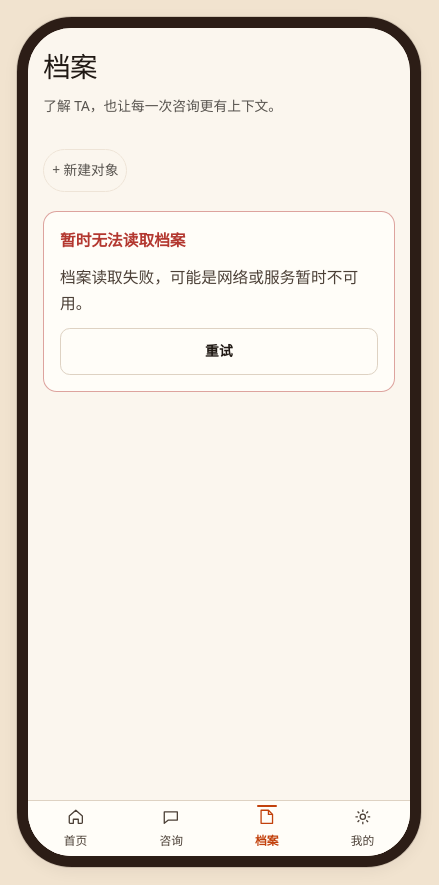
Test: 档案页 · 加载与候选层不变量 › P1 对象列表失败 → 错误卡 + 重试；对象切换器仍在（单对象失败不吞导航）
This screenshot has width=439, height=885.
Expected: the message "暂时无法读取档案 档案读取失败，可能是网络或服务暂时不可用。 重试" is shown, [43,211,395,392]
Click the button "重试": (219, 351) [60,328,378,375]
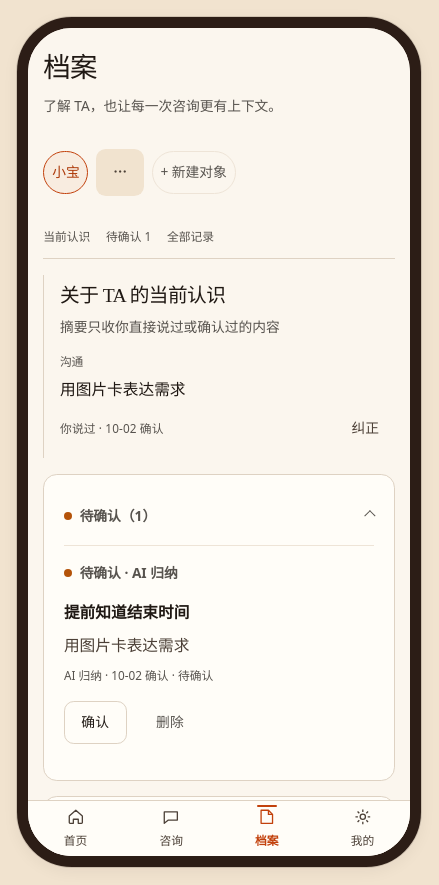
Now the heading "关于 TA 的当前认识" is shown, box [60,285,225,306]
